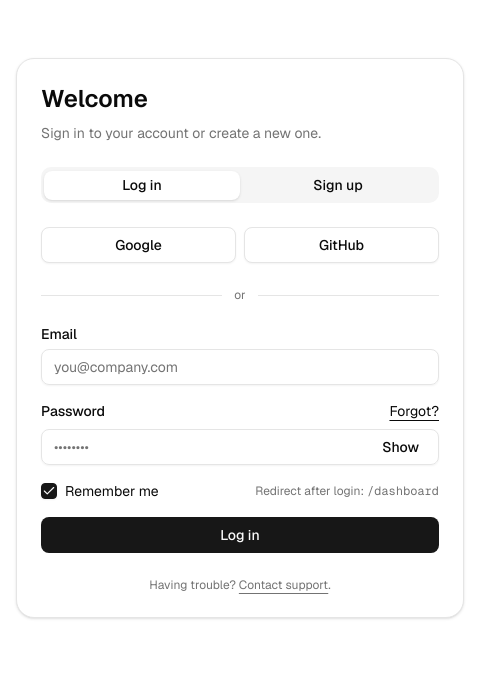
it: LoginForm › OAuth failure shows error and re-enables controls
Click the button "Google". click: (138, 245)
box: [41, 227, 236, 263]
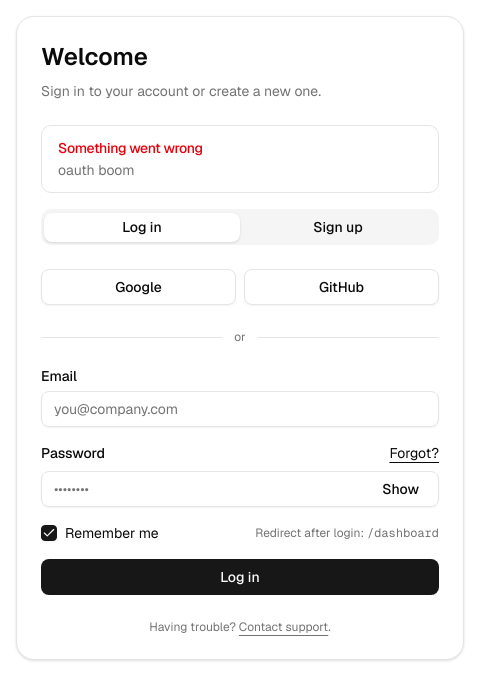
expect the button "Google" is enabled: met, box [41, 269, 236, 305]
expect the text "oauth boom" is shown: met, box [58, 161, 134, 179]
